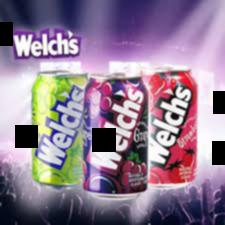welchs_grape: (85, 71, 151, 196)
